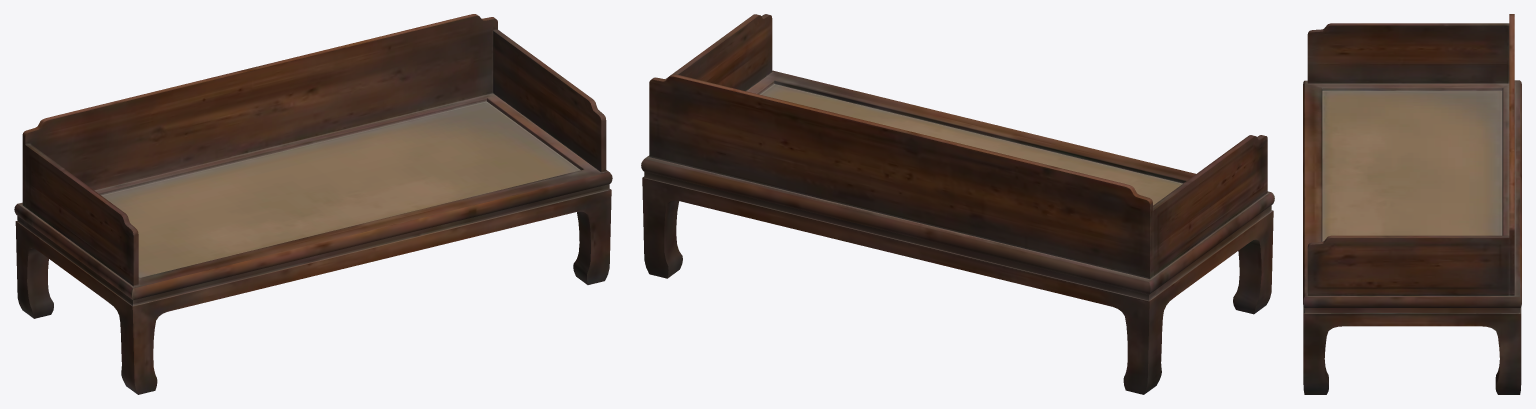
Rendered from chinese_sofa.glb.
3 views of the same model, side by side, from view 1: azimuth 30°, elevation 25°; view 2: azimuth 150°, elevation 25°; view 3: azimuth 270°, elevation 25° (orthographic). The views are drawn at different scales.
Parts seen in each view (by area): view 1: chinese_sofa; view 2: chinese_sofa; view 3: chinese_sofa.
Boxes of the visible parts, <box> form: chinese_sofa: <box>14,14,612,394</box>; chinese_sofa: <box>641,14,1274,394</box>; chinese_sofa: <box>1303,14,1521,394</box>.
Bounding box in the file's own units: 2.29 × 0.86 × 0.9688.
1 material, 1 textured.
